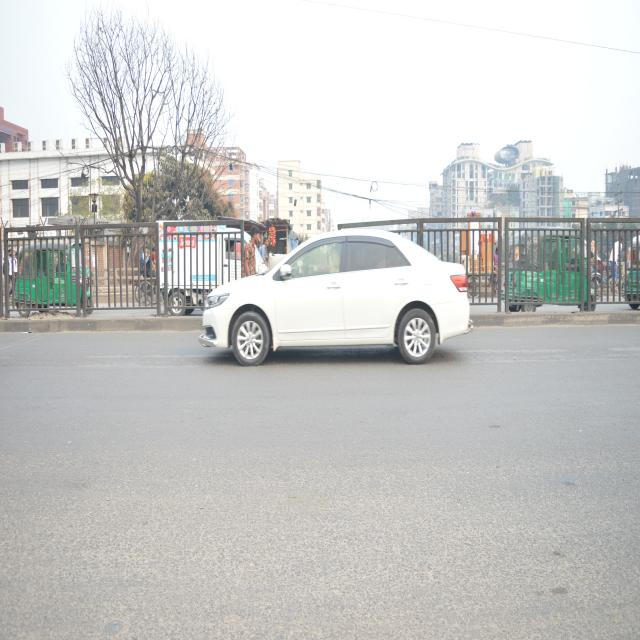car: (199, 220, 475, 382)
pickup-van: (146, 218, 257, 312)
